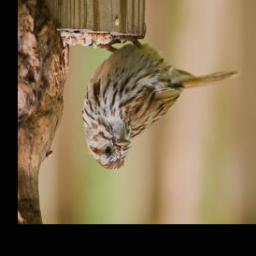Sparrow: (81, 22, 240, 172)
